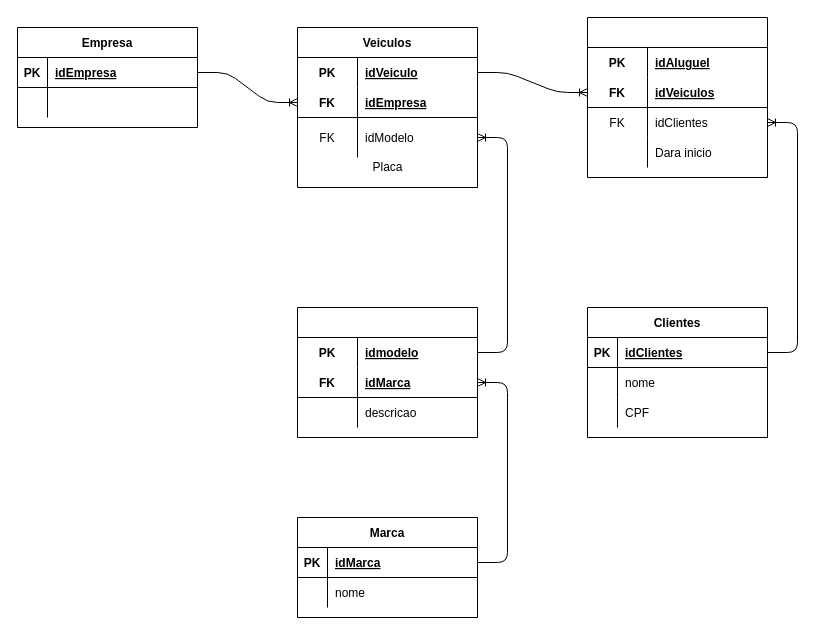
Some shapes in this 823 by 635 pixel diagram are drawn without their labels. The box of each missing label's shape, as (x1, y1, x2, y2) in pixels:
Alugueis: (586, 16, 768, 178)
Modelos: (296, 306, 478, 438)
